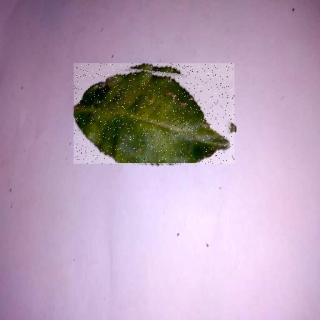Bird Eye Spot: (76, 65, 237, 166)
